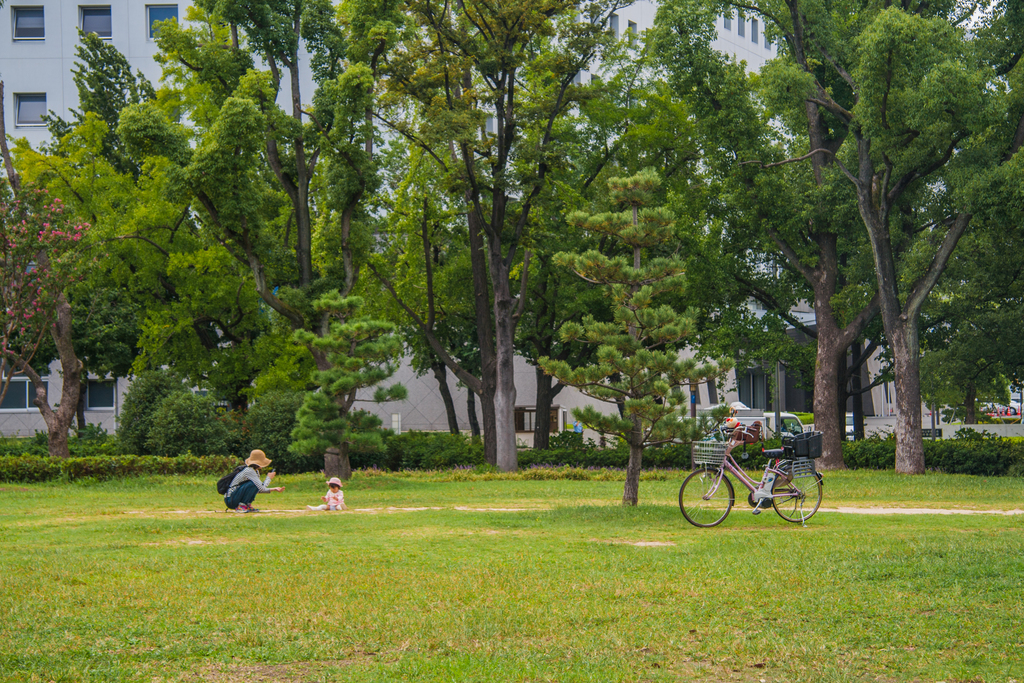bicycle: (673, 418, 822, 534)
